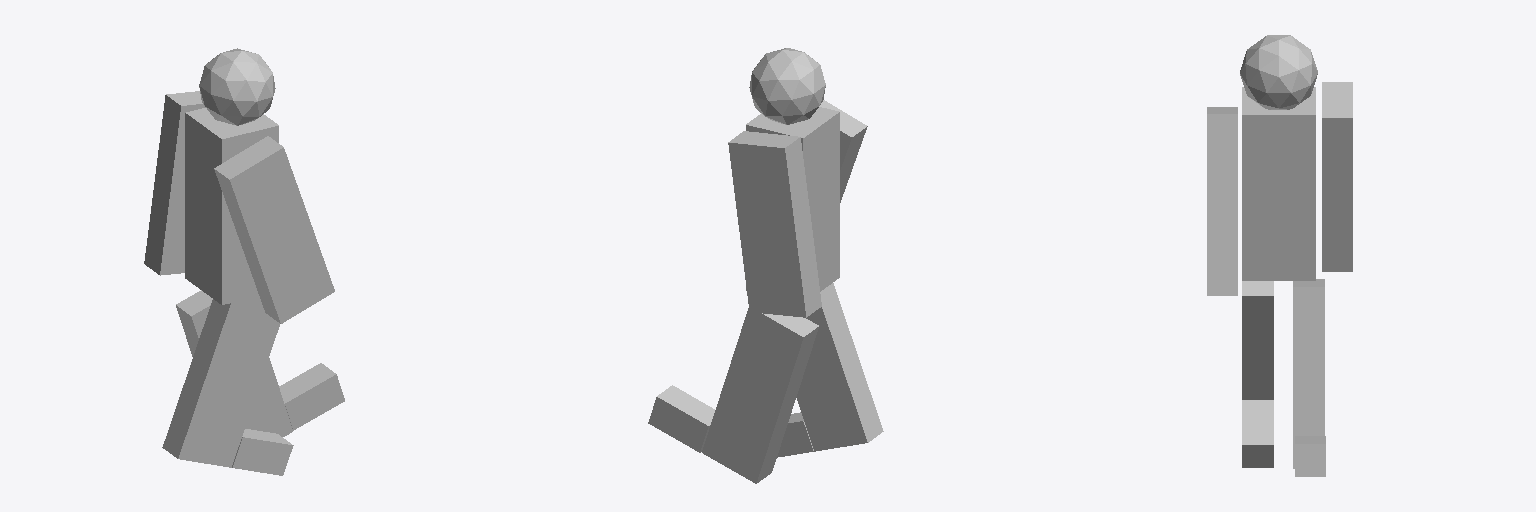
File: player_000067.obj
3 renders of one model, left to right at view 1: azimuth 30°, elevation 25°; view 2: azimuth 150°, elevation 25°; view 3: azimuth 270°, elevation 25°, orthographic.
Parts seen in each view (by area): view 1: Cube.005, Cube.001, Cube, Cube.006, Icosphere, Cube.002, Cube.004, Cube.003; view 2: Cube.006, Cube.002, Cube.001, Cube, Icosphere, Cube.004, Cube.005, Cube.003; view 3: Cube, Cube.006, Cube.005, Cube.002, Icosphere, Cube.001, Cube.003, Cube.004.
Part boxes in pixels (x1,y1,x2,y2): Cube.005: (214,136,334,323); Cube.001: (162,293,279,467); Cube: (185,108,278,304); Cube.006: (144,91,205,275); Icosphere: (199,48,275,125); Cube.002: (176,290,292,436); Cube.004: (279,363,344,430); Cube.003: (232,429,293,475); Cube.006: (728,131,821,317); Cube.002: (702,308,818,483); Cube.001: (796,283,883,451); Cube: (746,107,839,291); Icosphere: (749,48,825,124); Cube.004: (648,385,714,452); Cube.005: (819,100,867,202); Cube.003: (777,412,813,457); Cube: (1242,87,1315,280); Cube.006: (1322,82,1352,271); Cube.005: (1207,107,1237,295); Cube.002: (1293,279,1324,468); Icosphere: (1240,35,1317,109); Cube.001: (1242,281,1273,399); Cube.003: (1242,400,1273,467); Cube.004: (1295,436,1325,476).
Size of the model in its own units: 1.39 by 2.87 by 0.9137.